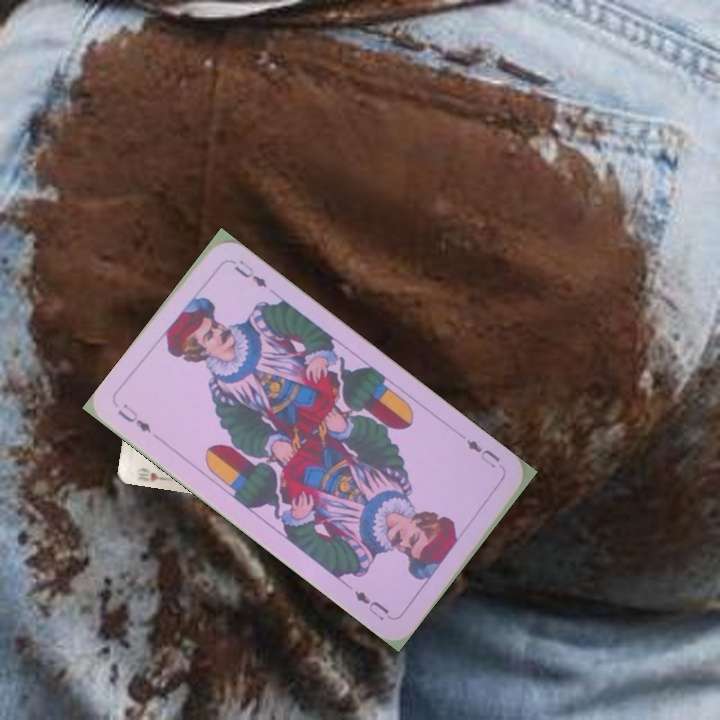EU: (113, 399, 154, 436), (462, 435, 503, 471)
H10: (133, 464, 171, 485)
